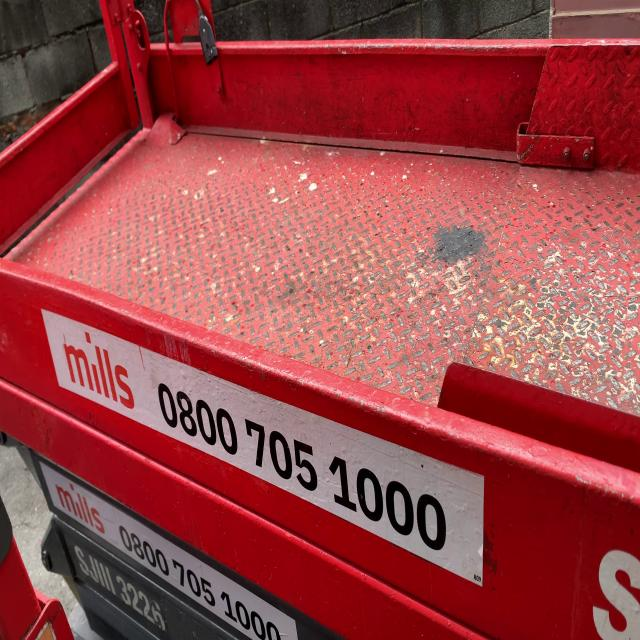Adesivo Longo: (41, 306, 488, 593)
